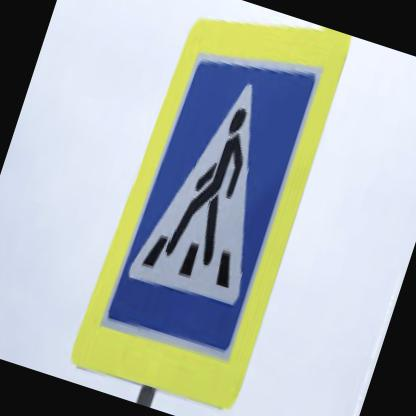crosswalk: (100, 27, 322, 366)
